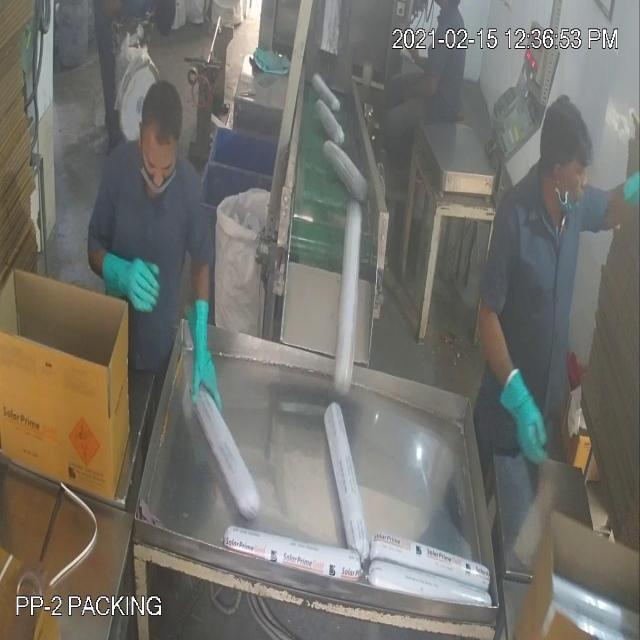gloves: (498, 355, 556, 479), (183, 290, 233, 425), (95, 238, 165, 326)
